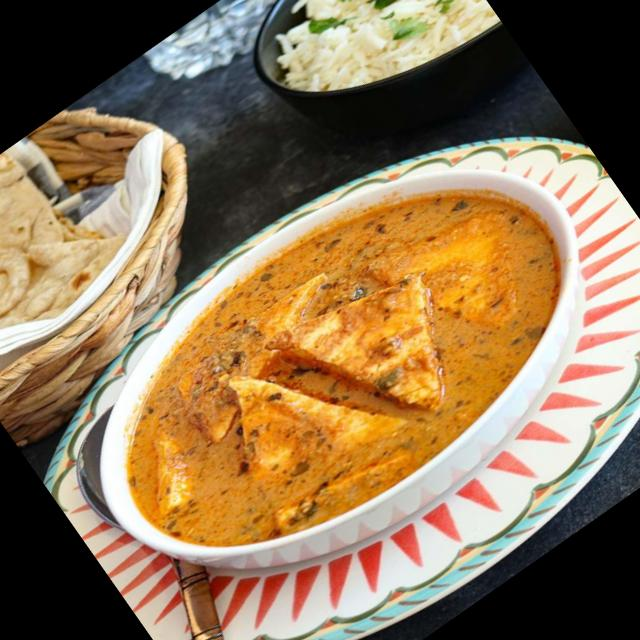rice: (312, 0, 475, 68)
roti: (0, 137, 113, 352)
